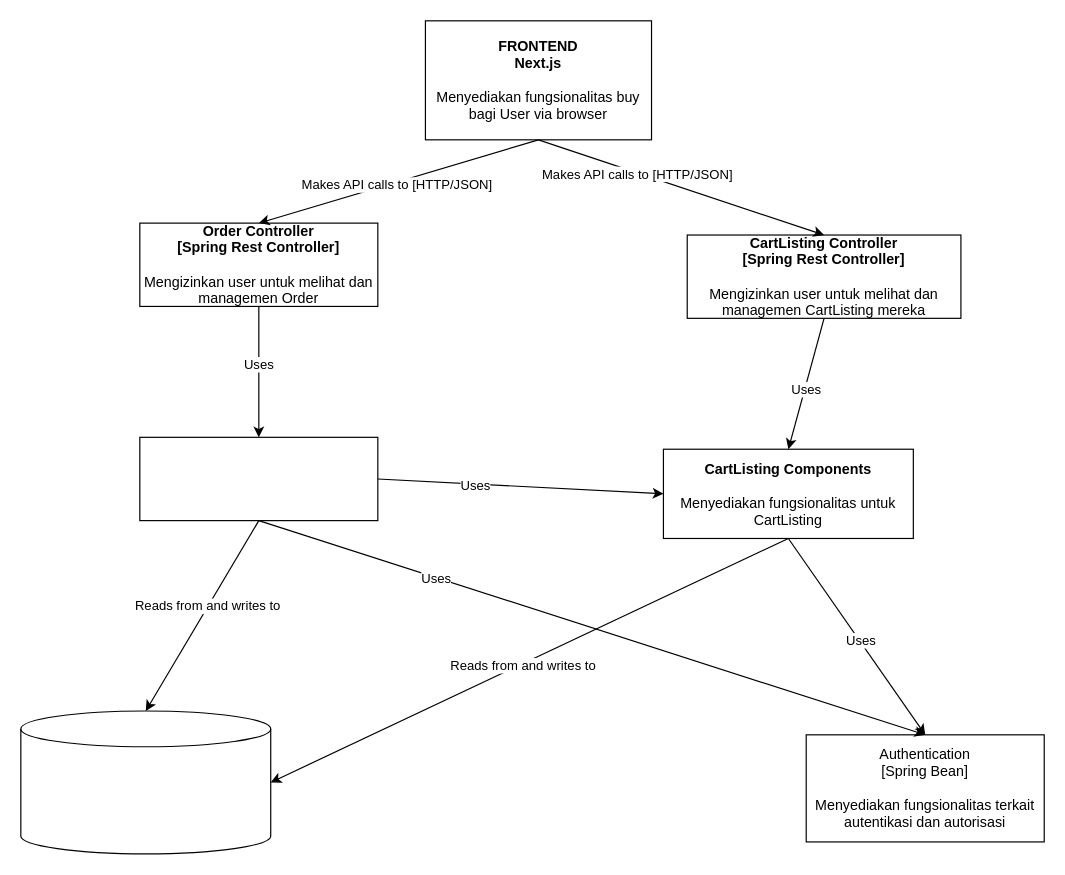
This 1065x875 diagram has some shape labels left out. Each missing label, with the box of its shape:
DATABASE [PostgreSQL; Supabase Menyimpan data mengenai CartListing dan Order: (20, 710, 271, 854)
Order Components Menyediakan functionalitas untuk Order: (139, 436, 378, 521)
